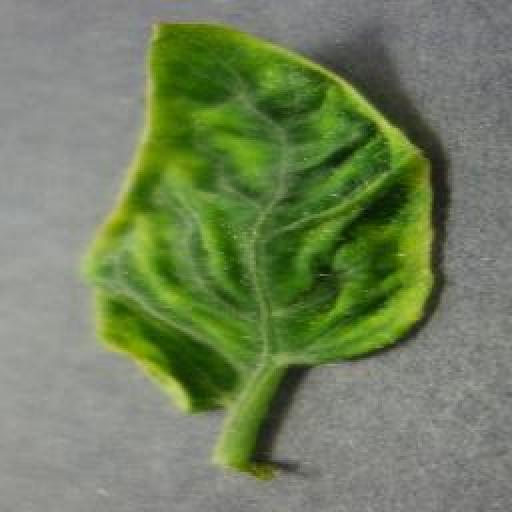Yellow Leaf Curl Virus: (87, 18, 436, 414)
